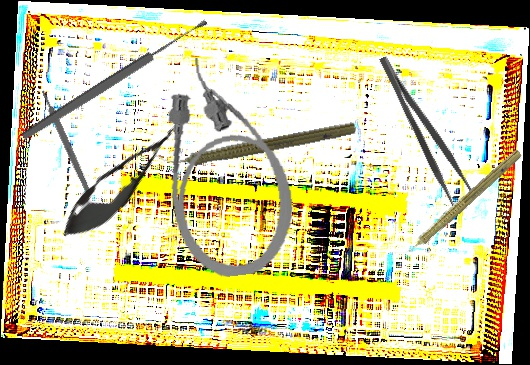Cannula: (153, 48, 302, 283)
Dressing Forceps: (375, 48, 476, 207)
Handpiece: (392, 144, 525, 266), (152, 113, 358, 177)
Micro Scissor: (50, 107, 196, 252)
Scalpel Handle: (39, 89, 93, 196)
Surgical Spoon: (19, 16, 211, 143)
